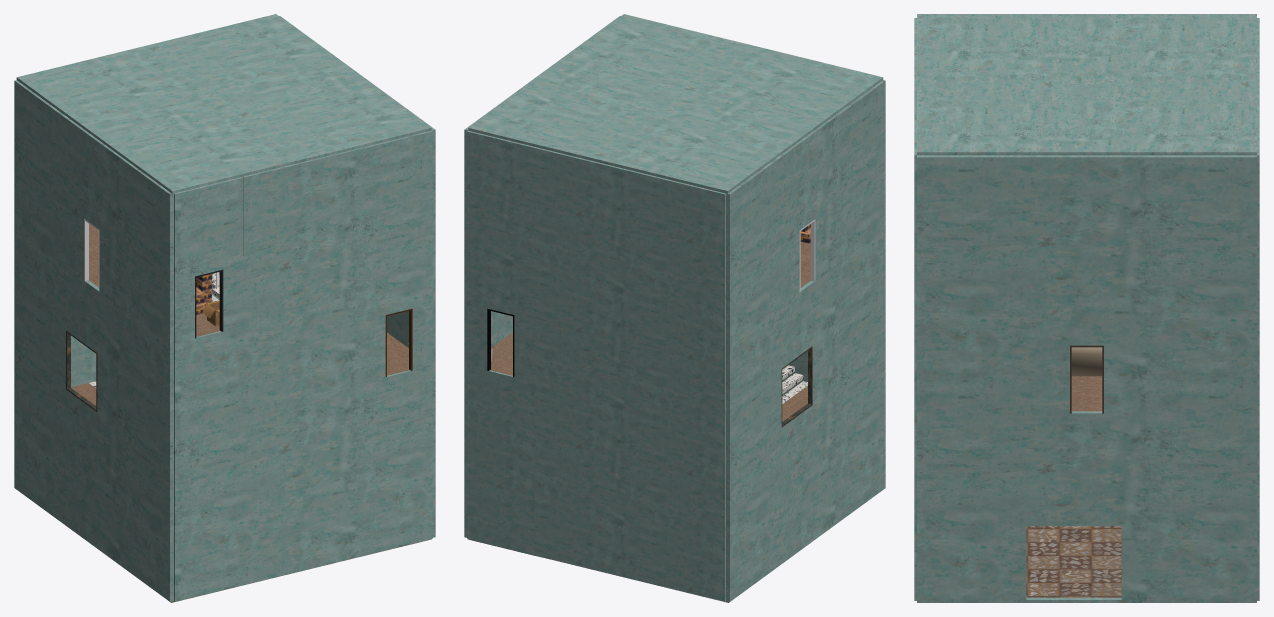
File: Hallway.glb
The picture shows the model from 3 angles, left to right: view 1: azimuth 30°, elevation 25°; view 2: azimuth 150°, elevation 25°; view 3: azimuth 270°, elevation 25°; orthographic projection. The views are drawn at different scales.
Visible parts, largest first — view 1: Roshdi_Wall, Sami_Wall.001, Top_of_hallway, Sami_Wall, Karim_Wal, Top_Floor_Step, Second_Floor_Step, Cube.004; view 2: Karim_Wal, Sami_Wall.001, Top_of_hallway, Sami_Wall, Second_Floor_Step, Cube.004, Down_Stairs; view 3: Sami_Wall, Top_of_hallway, Ground_Step, Karim_Wal, Roshdi_Wall, Second_Floor_Step, Stais_wall.
Boxes of the visible parts, x1=… form: Roshdi_Wall: x1=174, y1=130, x2=432, y2=601; Sami_Wall.001: x1=14, y1=80, x2=173, y2=601; Top_of_hallway: x1=16, y1=14, x2=431, y2=195; Sami_Wall: x1=279, y1=16, x2=435, y2=537; Karim_Wal: x1=71, y1=287, x2=219, y2=386; Top_Floor_Step: x1=89, y1=224, x2=219, y2=336; Second_Floor_Step: x1=219, y1=272, x2=409, y2=375; Cube.004: x1=66, y1=330, x2=97, y2=411; Karim_Wal: x1=467, y1=130, x2=725, y2=601; Sami_Wall.001: x1=726, y1=80, x2=885, y2=601; Top_of_hallway: x1=468, y1=14, x2=883, y2=193; Sami_Wall: x1=464, y1=16, x2=620, y2=537; Second_Floor_Step: x1=490, y1=332, x2=512, y2=375; Cube.004: x1=781, y1=346, x2=812, y2=427; Down_Stairs: x1=782, y1=365, x2=807, y2=403; Sami_Wall: x1=917, y1=155, x2=1256, y2=602; Top_of_hallway: x1=917, y1=14, x2=1256, y2=155; Ground_Step: x1=1026, y1=526, x2=1121, y2=597; Karim_Wal: x1=1257, y1=18, x2=1259, y2=600; Roshdi_Wall: x1=914, y1=18, x2=916, y2=600; Second_Floor_Step: x1=1071, y1=376, x2=1102, y2=411; Stais_wall: x1=1071, y1=347, x2=1102, y2=376.
Size of what is drawn, in the model's own units: 9.86 by 14.6 by 10.15.
44 materials, 20 textured.
